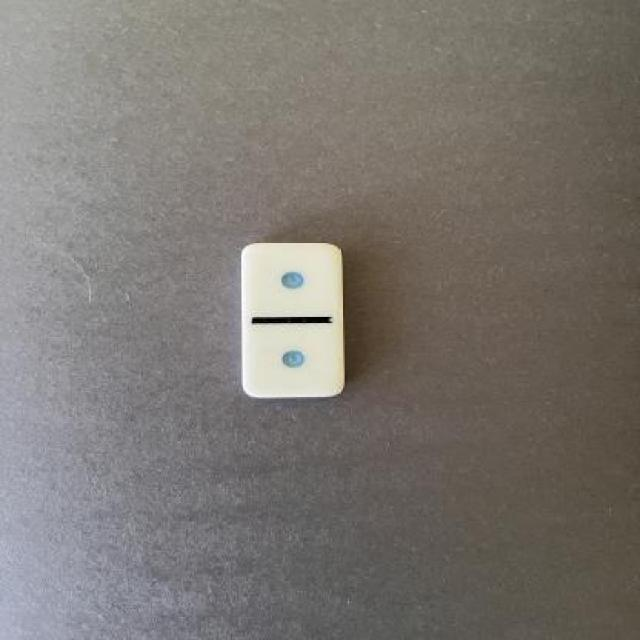domino: (237, 239, 346, 401)
